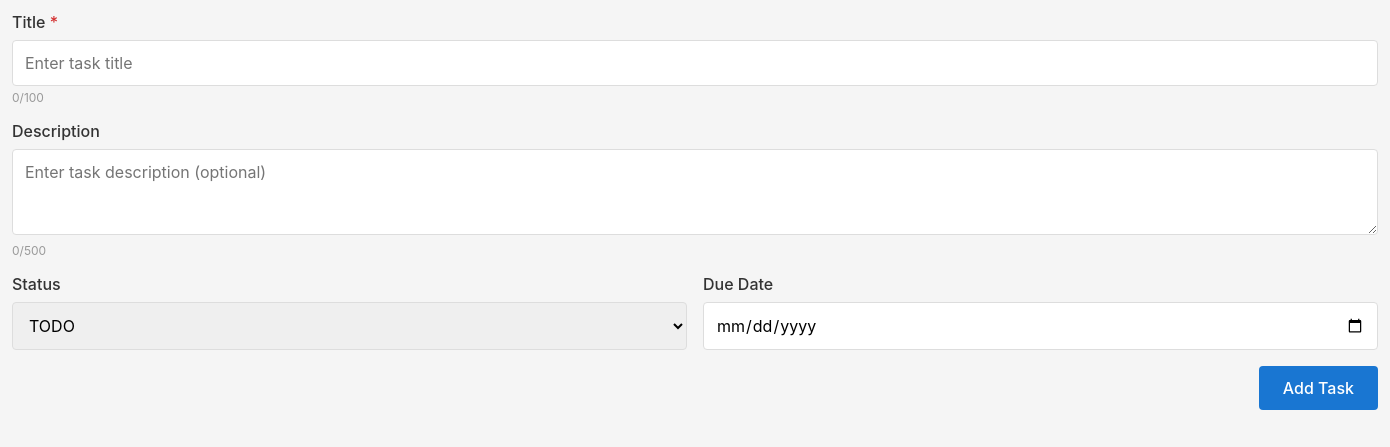
Test case: TaskForm Component › Form Validation › should show error if title is empty
The image size is (1390, 447).
Step 1. Click the button "Add Task" → (1318, 388), box [1259, 366, 1378, 410]
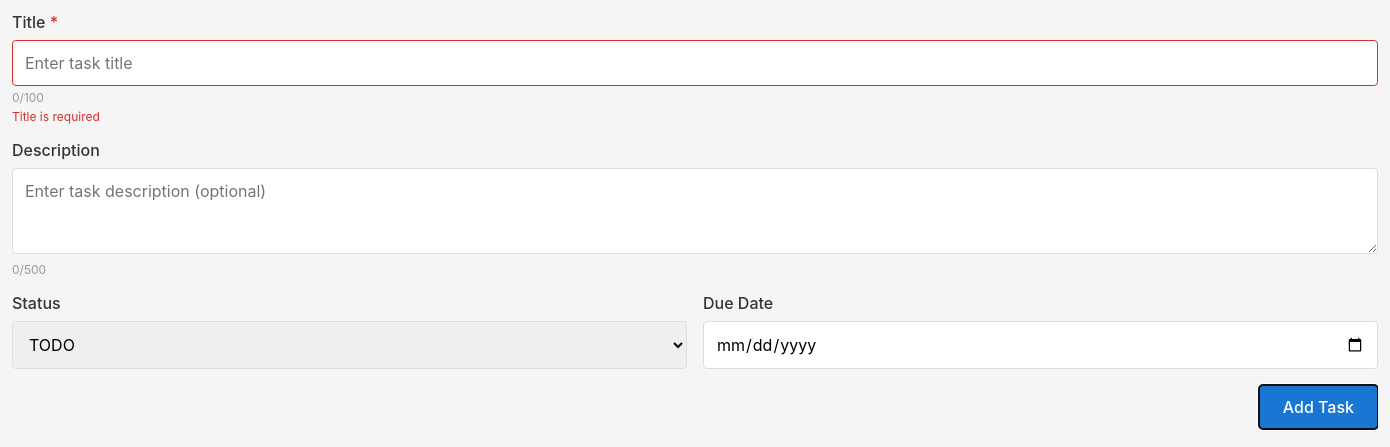
Expected: the text "Title is required" is shown, [12, 109, 100, 124]
